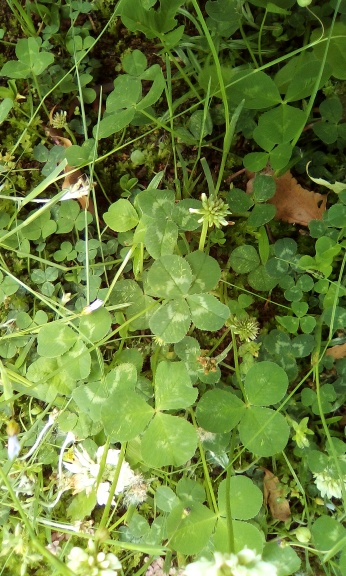4leaf: (143, 249, 232, 344)
